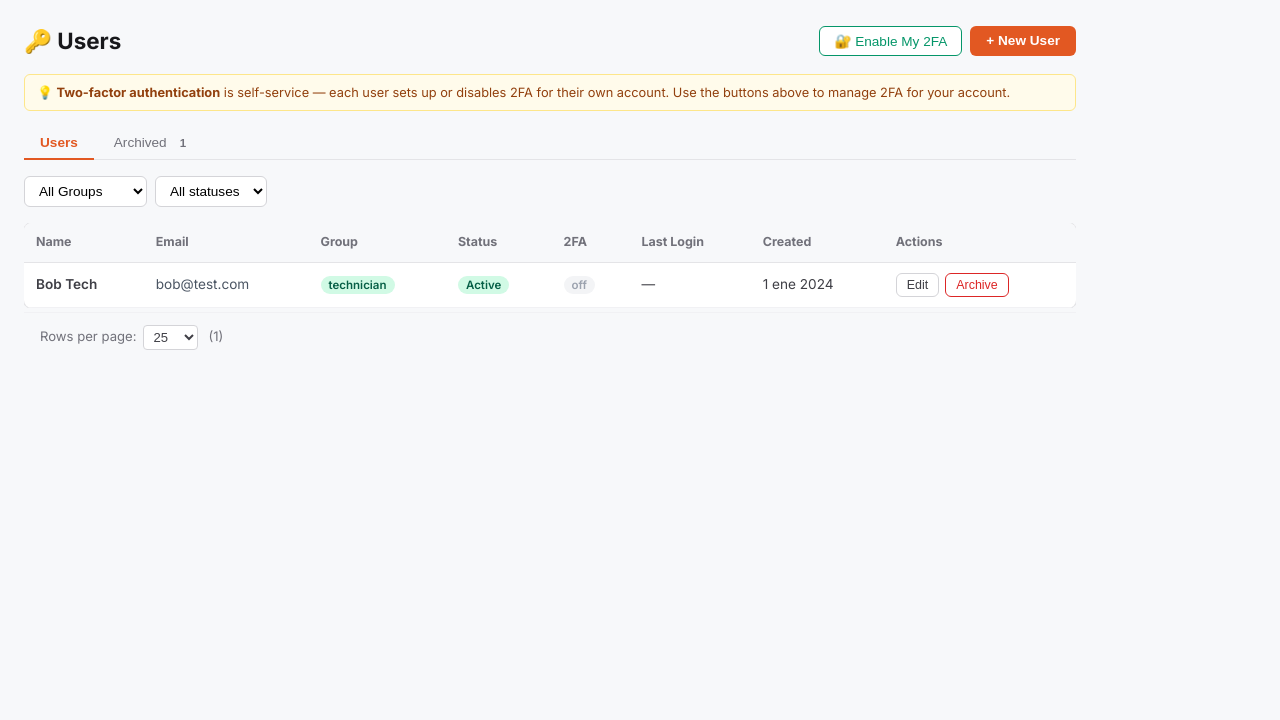
Test: UserList page › New User modal — group + organization access › disables Create and shows a hint when no organization is checked
This screenshot has width=1280, height=720.
expect the text "bob@test.com" is shown: met, box [144, 262, 308, 307]
Click the button "+ New User". click: [1023, 41]
box: [970, 26, 1076, 56]
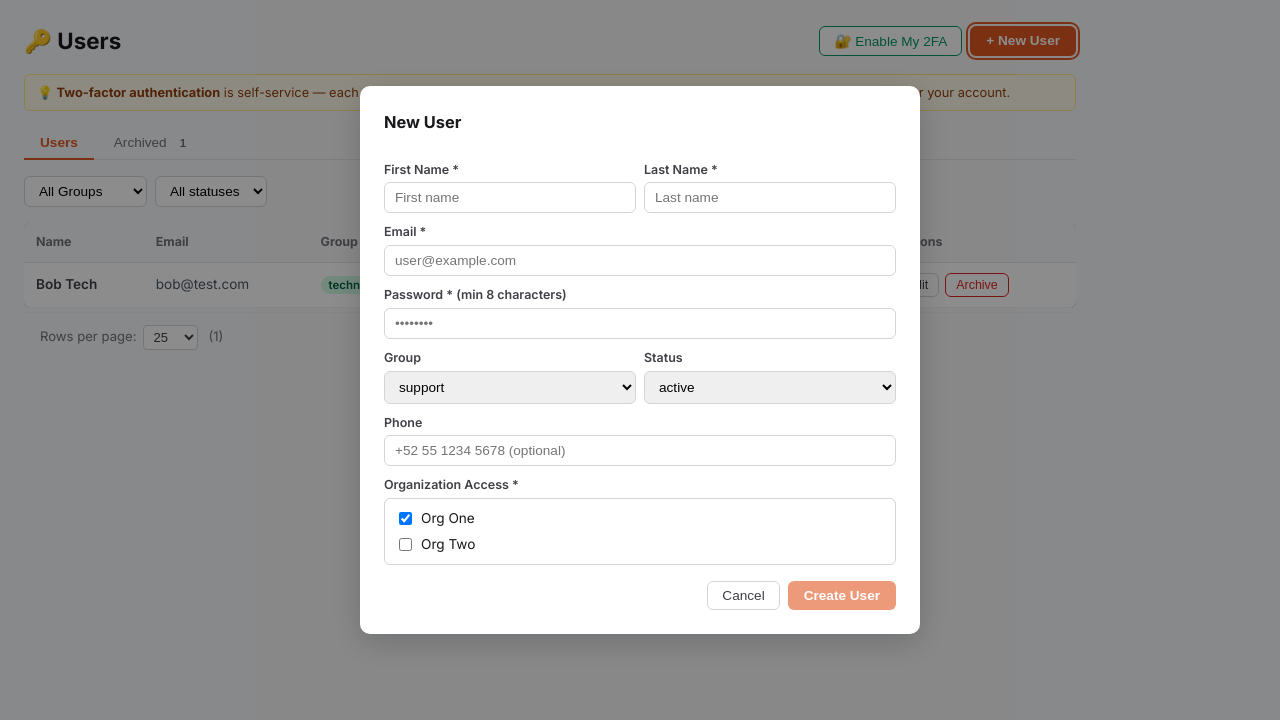
expect the checkbox labelled "Org One" is checked: met
Click the checkbox labelled "Org One". click: [406, 518]
box: [399, 512, 412, 525]
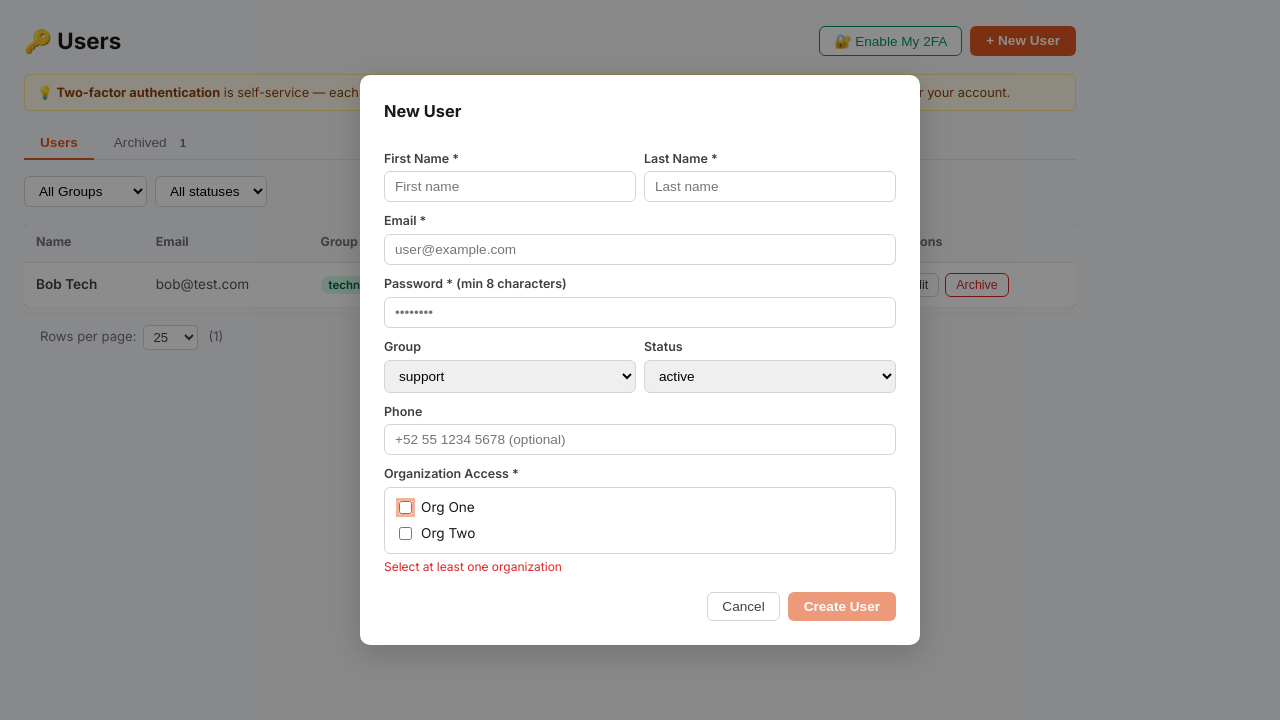
expect the button "Create User" is disabled: met, box [788, 592, 896, 621]
expect the text "Select at least one organization" is shown: met, box [384, 559, 562, 574]
